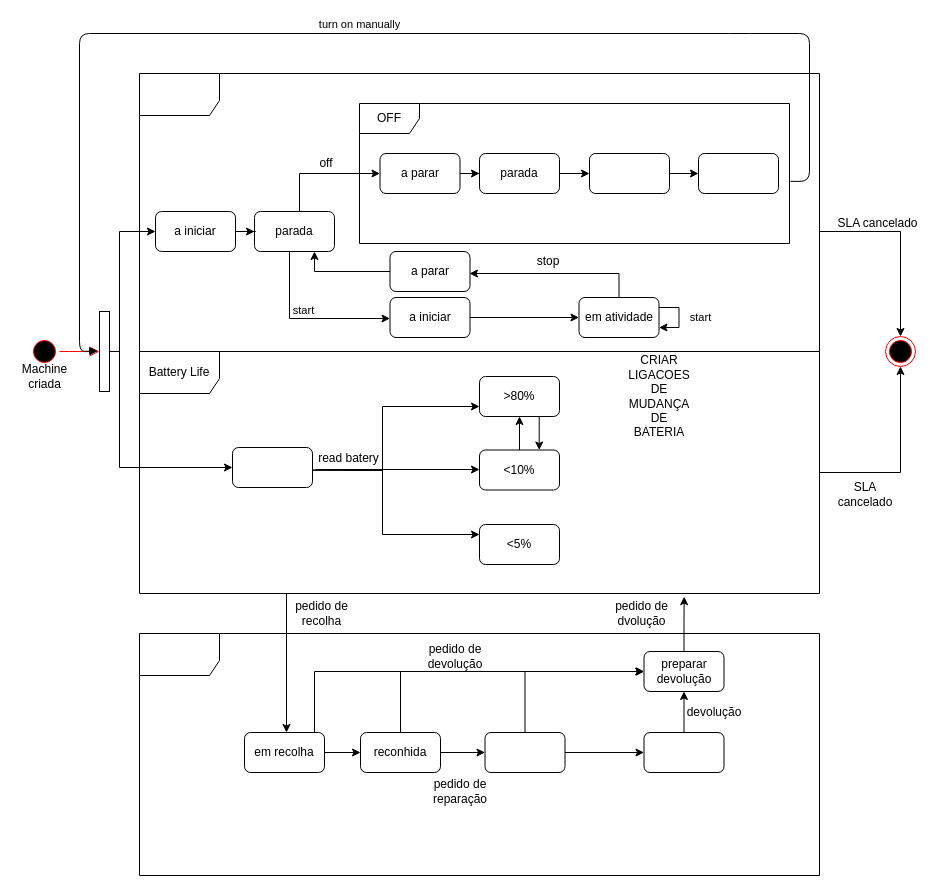
Image size: 934x893. Some labels were removed from this diagram. Each missing label, with the box of its shape:
a desligar: (588, 152, 670, 194)
desconhecida: (232, 446, 312, 488)
desligada: (698, 152, 778, 194)
em reparação: (484, 732, 565, 772)
Global Status: (138, 72, 820, 352)
Intervention: (138, 632, 820, 876)
reparado: (643, 732, 724, 772)
